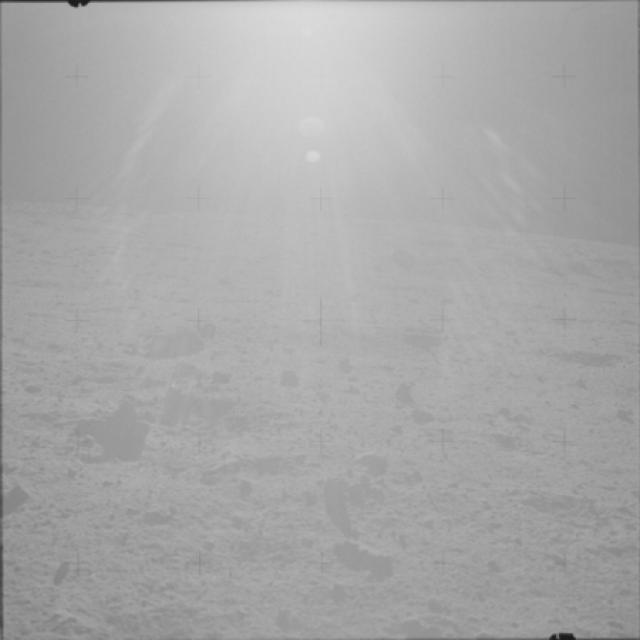crater: (548, 334, 635, 372)
rock: (85, 386, 160, 463), (330, 532, 400, 578), (131, 327, 200, 365), (313, 469, 378, 509), (0, 475, 47, 509), (388, 375, 434, 405), (271, 359, 310, 391), (140, 500, 182, 524), (204, 363, 242, 388), (403, 401, 439, 426), (350, 444, 390, 466), (610, 404, 639, 428)
